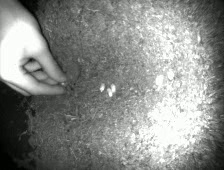corn: (152, 71, 166, 87), (96, 80, 108, 93), (104, 85, 115, 99), (108, 80, 117, 96), (58, 80, 67, 87)
